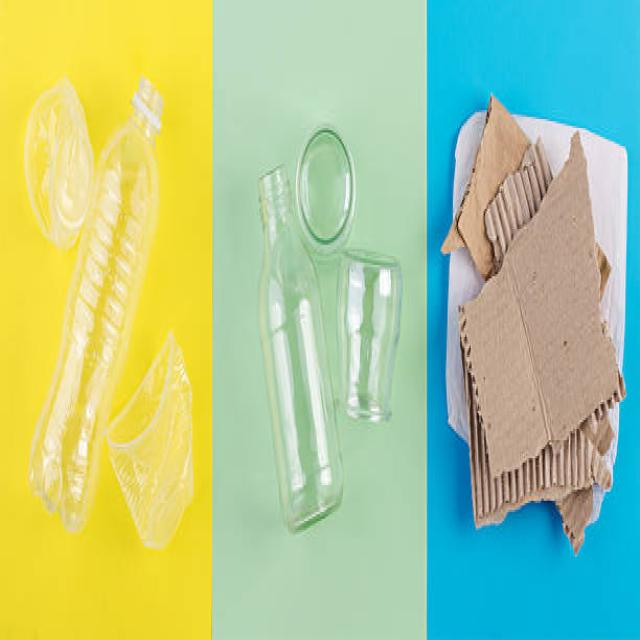cardboard: (440, 101, 624, 555)
glass: (254, 126, 405, 534)
plastic: (15, 56, 190, 562)
